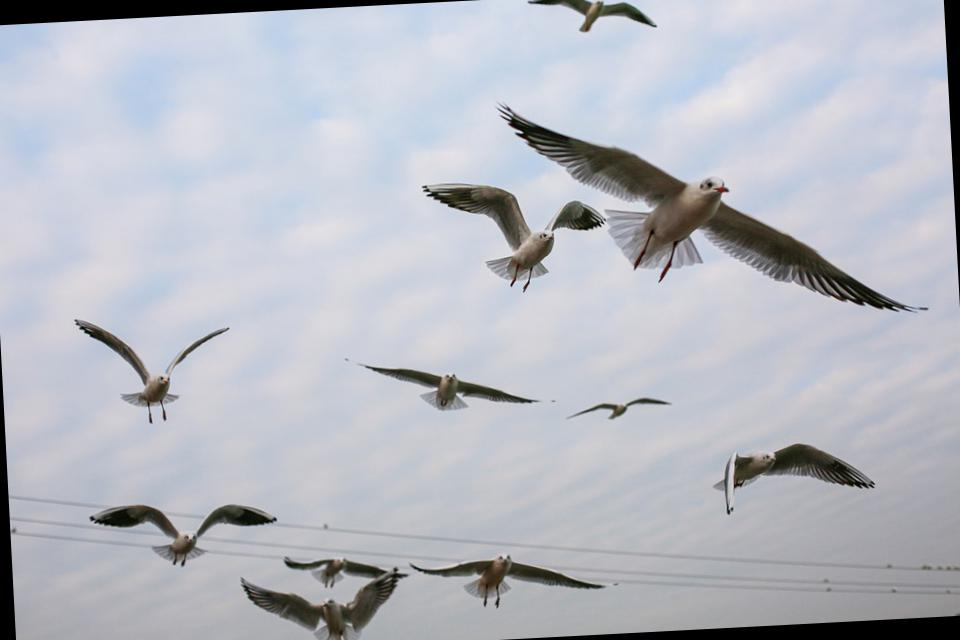bird: (44, 290, 246, 440), (322, 332, 555, 448), (558, 384, 680, 441)
